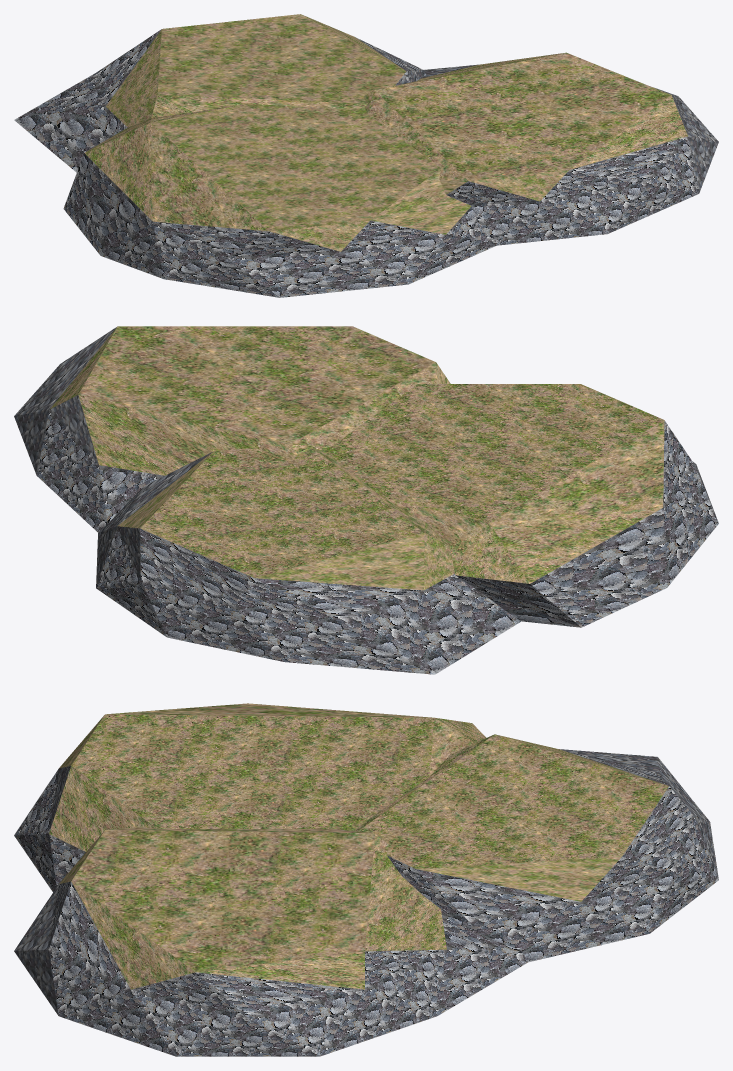
The model's file is bigstein.glb.
3 renders of one model, top to bottom at view 1: azimuth 30°, elevation 25°; view 2: azimuth 150°, elevation 25°; view 3: azimuth 270°, elevation 25°, orthographic. The views are drawn at different scales.
Parts seen in each view (by area): view 1: Land3Top, Land1Top, Land3Bottom, Land2Top, Land1Bottom, Land2Bottom; view 2: Land3Top, Land1Top, Land2Bottom, Land2Top, Land3Bottom, Land1Bottom; view 3: Land1Top, Land3Top, Land1Bottom, Land2Top, Land2Bottom, Land3Bottom.
Part boxes in pixels (bbox=[...]): Land3Top: bbox=[84, 103, 471, 251]; Land1Top: bbox=[363, 52, 687, 201]; Land3Bottom: bbox=[63, 153, 495, 297]; Land2Top: bbox=[106, 14, 406, 127]; Land1Bottom: bbox=[421, 64, 718, 246]; Land2Bottom: bbox=[14, 29, 426, 172]; Land3Top: bbox=[321, 384, 664, 583]; Land1Top: bbox=[50, 326, 450, 475]; Land2Bottom: bbox=[96, 452, 520, 674]; Land2Top: bbox=[117, 447, 454, 590]; Land3Bottom: bbox=[456, 420, 718, 627]; Land1Bottom: bbox=[14, 327, 164, 532]; Land1Top: bbox=[59, 827, 446, 989]; Land3Top: bbox=[49, 703, 486, 851]; Land1Bottom: bbox=[14, 881, 527, 1056]; Land2Top: bbox=[354, 734, 668, 901]; Land2Bottom: bbox=[387, 749, 718, 962]; Land3Bottom: bbox=[14, 766, 85, 892].
Bounding box in the file's own units: 426 × 51.78 × 380.
2 materials, 2 textured.
